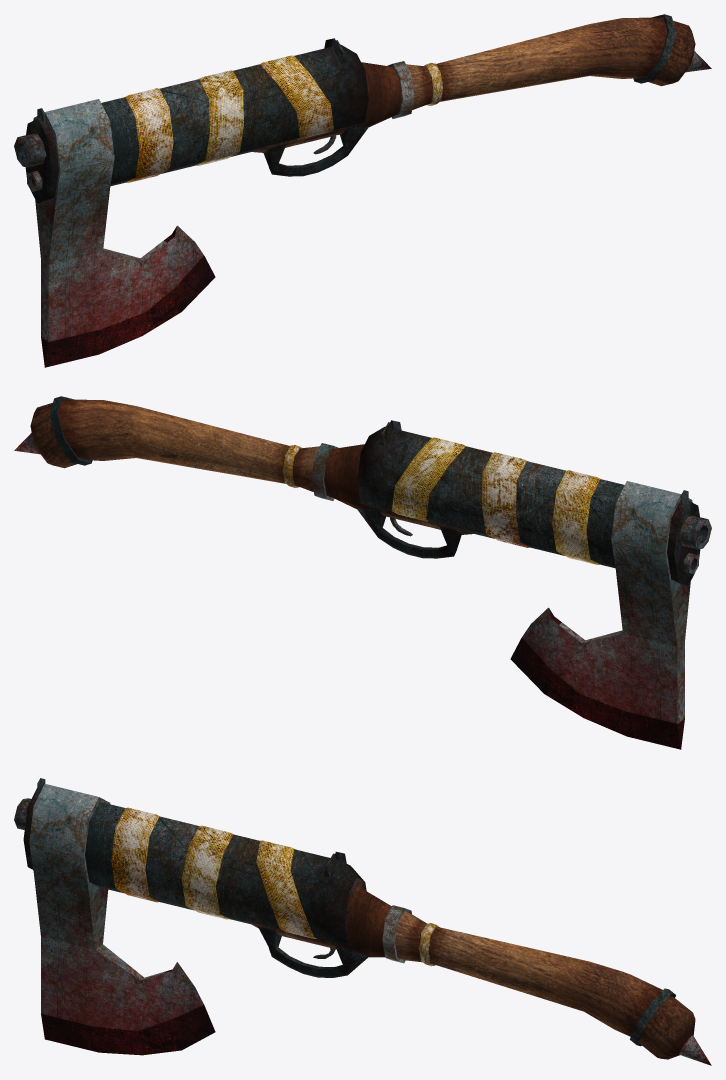
Rendered from AxeGun.fbx.
3 views of the same model, one above another, from view 1: azimuth 30°, elevation 25°; view 2: azimuth 150°, elevation 25°; view 3: azimuth 330°, elevation 25° (orthographic).
Parts seen in each view (by area): view 1: AxeGun; view 2: AxeGun; view 3: AxeGun.
Boxes of the visible parts, box(x1,y1,x2,y2) form: AxeGun: box(14, 14, 711, 367); AxeGun: box(14, 396, 711, 749); AxeGun: box(14, 778, 711, 1065).
Size of the model in its own units: 216 by 77.86 by 16.96.
Materials: 1 (1 with a texture image).
